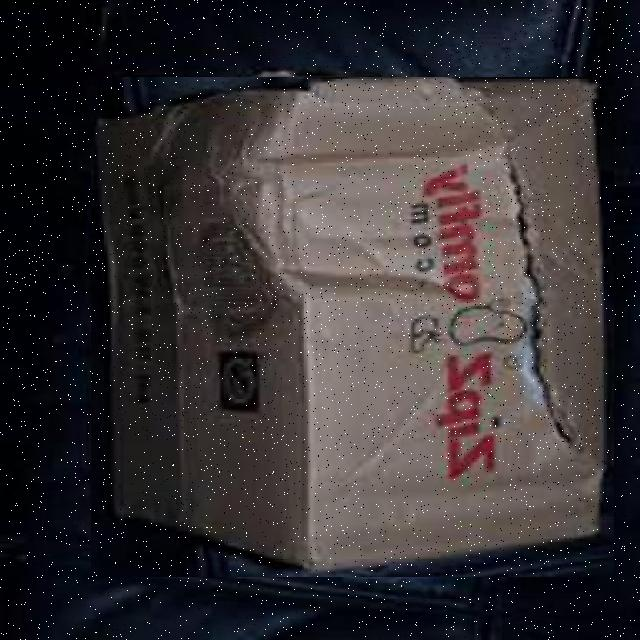defect: (91, 77, 614, 577)
